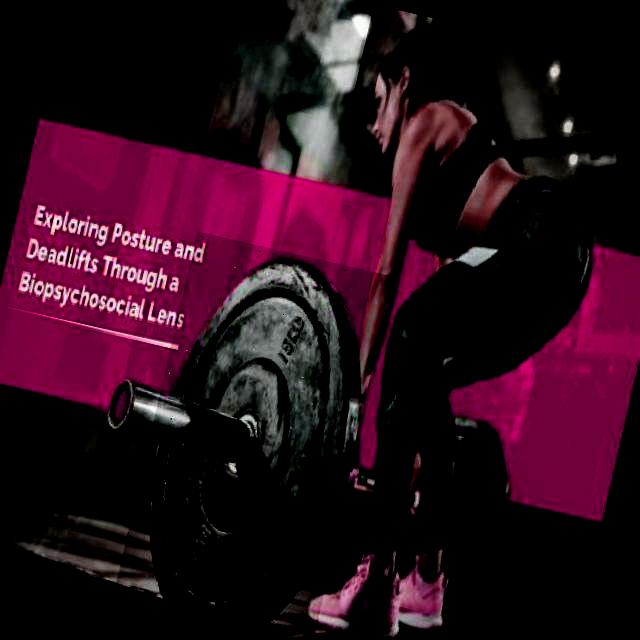barbell: (111, 232, 397, 640)
